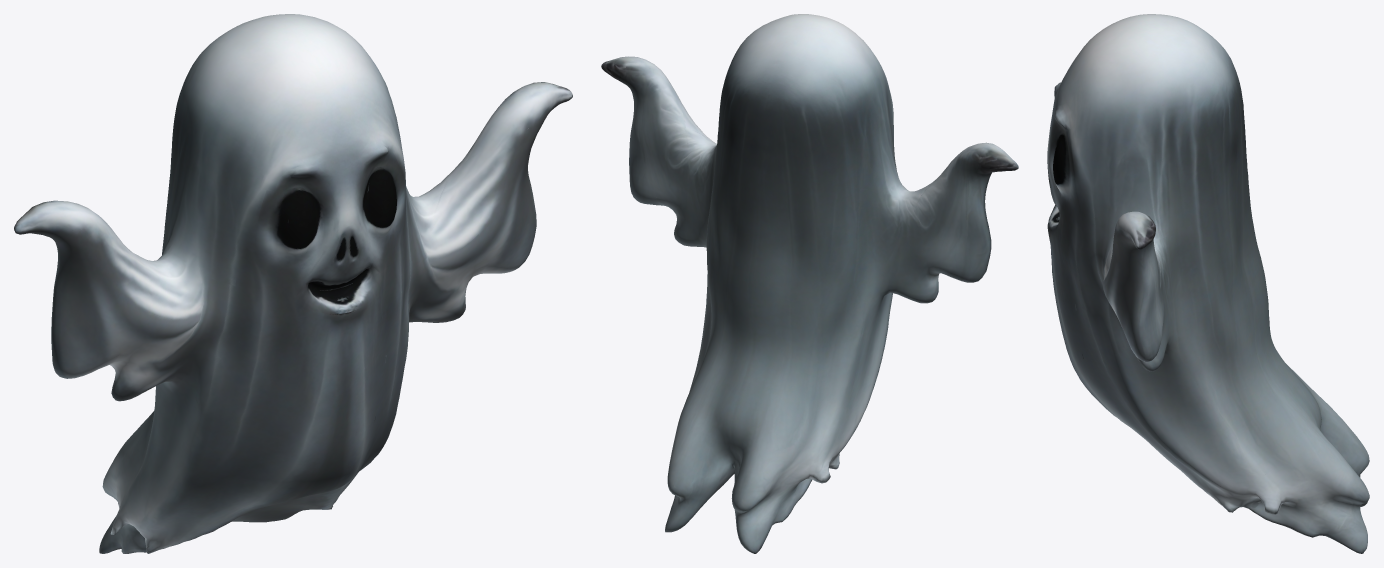
The model's file is ghost.glb.
3 views of the same model, side by side, from view 1: azimuth 30°, elevation 25°; view 2: azimuth 150°, elevation 25°; view 3: azimuth 270°, elevation 25° (orthographic). The views are drawn at different scales.
Size of the model in its own units: 1.92 by 2 by 1.15.
1 material, 1 textured.
